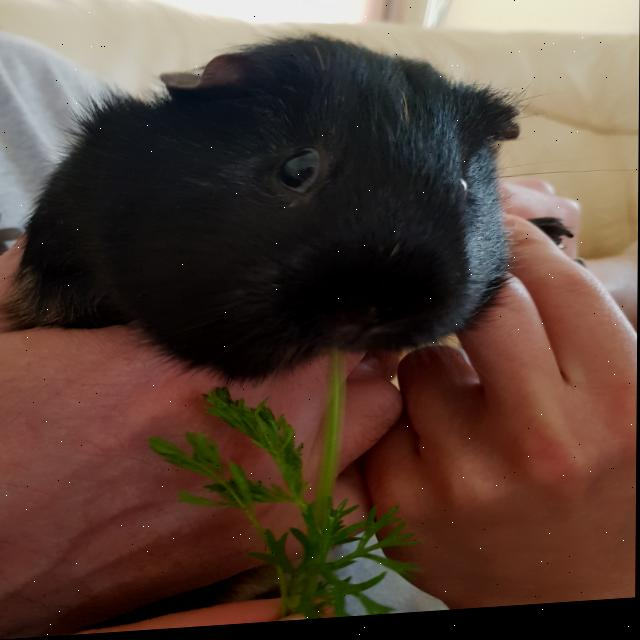guinea pig: (16, 23, 521, 397)
